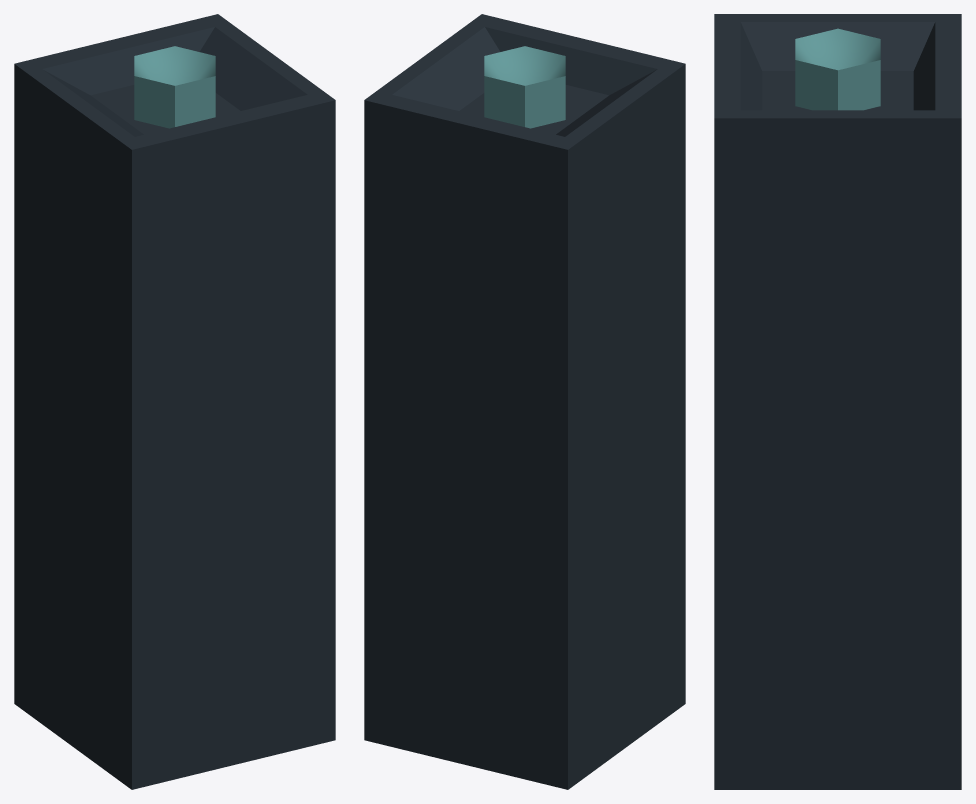
File: crystalReceptacle.fbx
The picture shows the model from 3 angles, left to right: view 1: azimuth 30°, elevation 25°; view 2: azimuth 150°, elevation 25°; view 3: azimuth 270°, elevation 25°; orthographic projection. The views are drawn at different scales.
Visible parts, largest first — view 1: pCube1, pCylinder1; view 2: pCube1, pCylinder1; view 3: pCube1, pCylinder1.
Boxes of the visible parts, <box> form: pCube1: <box>14,14,335,789</box>; pCylinder1: <box>134,46,215,128</box>; pCube1: <box>364,14,685,789</box>; pCylinder1: <box>484,46,565,128</box>; pCube1: <box>714,14,961,789</box>; pCylinder1: <box>795,28,880,110</box>.
Bounding box in the file's own units: 5 × 5 × 15.37.
